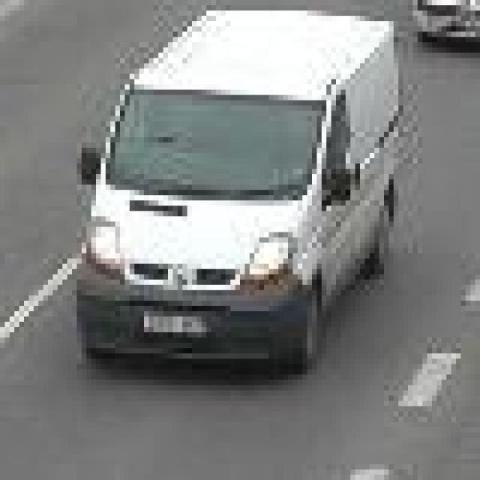van: (77, 5, 399, 369)
